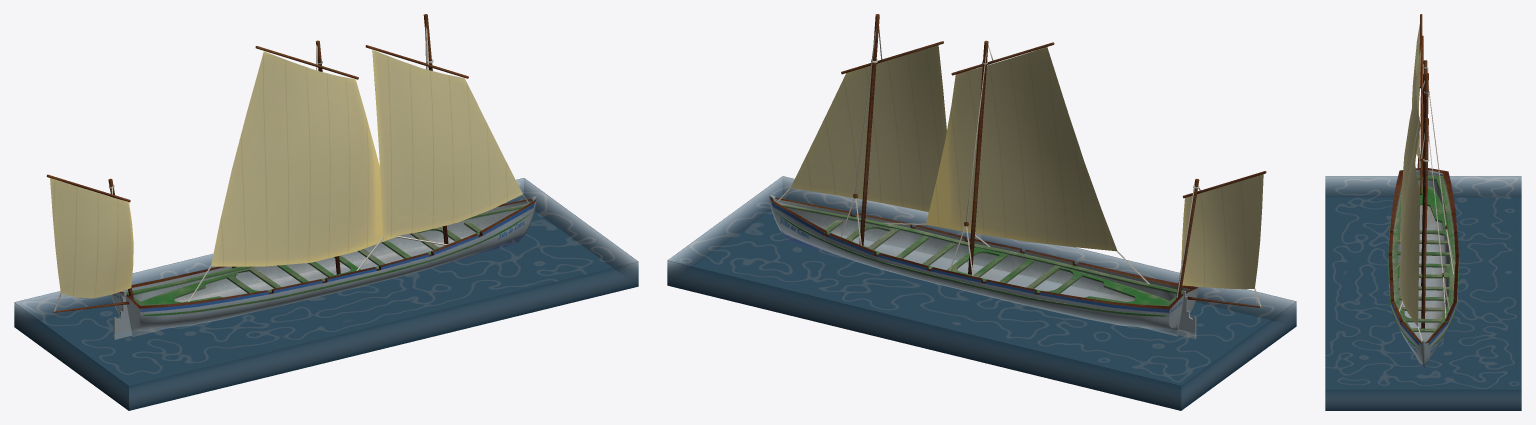
Rendered from yole_bantry.glb.
3 renders of one model, left to right at view 1: azimuth 30°, elevation 25°; view 2: azimuth 150°, elevation 25°; view 3: azimuth 270°, elevation 25°, orthographic. The views are drawn at different scales.
Parts seen in each view (by area): view 1: yole_export, yole_water; view 2: yole_export, yole_water; view 3: yole_water, yole_export.
Boxes of the visible parts, box(x1,y1,x2,y2) form: yole_export: box(46, 14, 536, 339); yole_water: box(14, 178, 638, 410); yole_export: box(769, 14, 1266, 339); yole_water: box(667, 176, 1296, 410); yole_water: box(1325, 176, 1521, 410); yole_export: box(1388, 14, 1459, 369).
Size of the model in its own units: 10.51 by 5.22 by 3.89.
2 materials, 2 textured.
